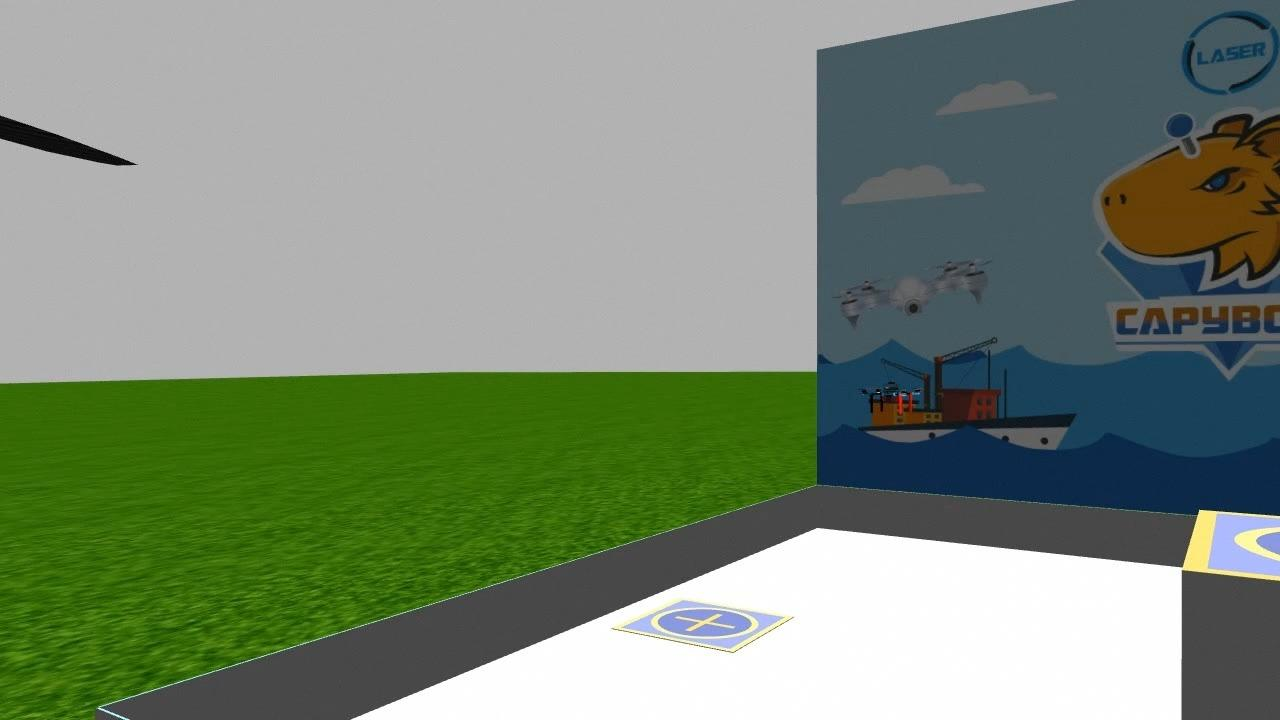UAV: (852, 371, 939, 429)
